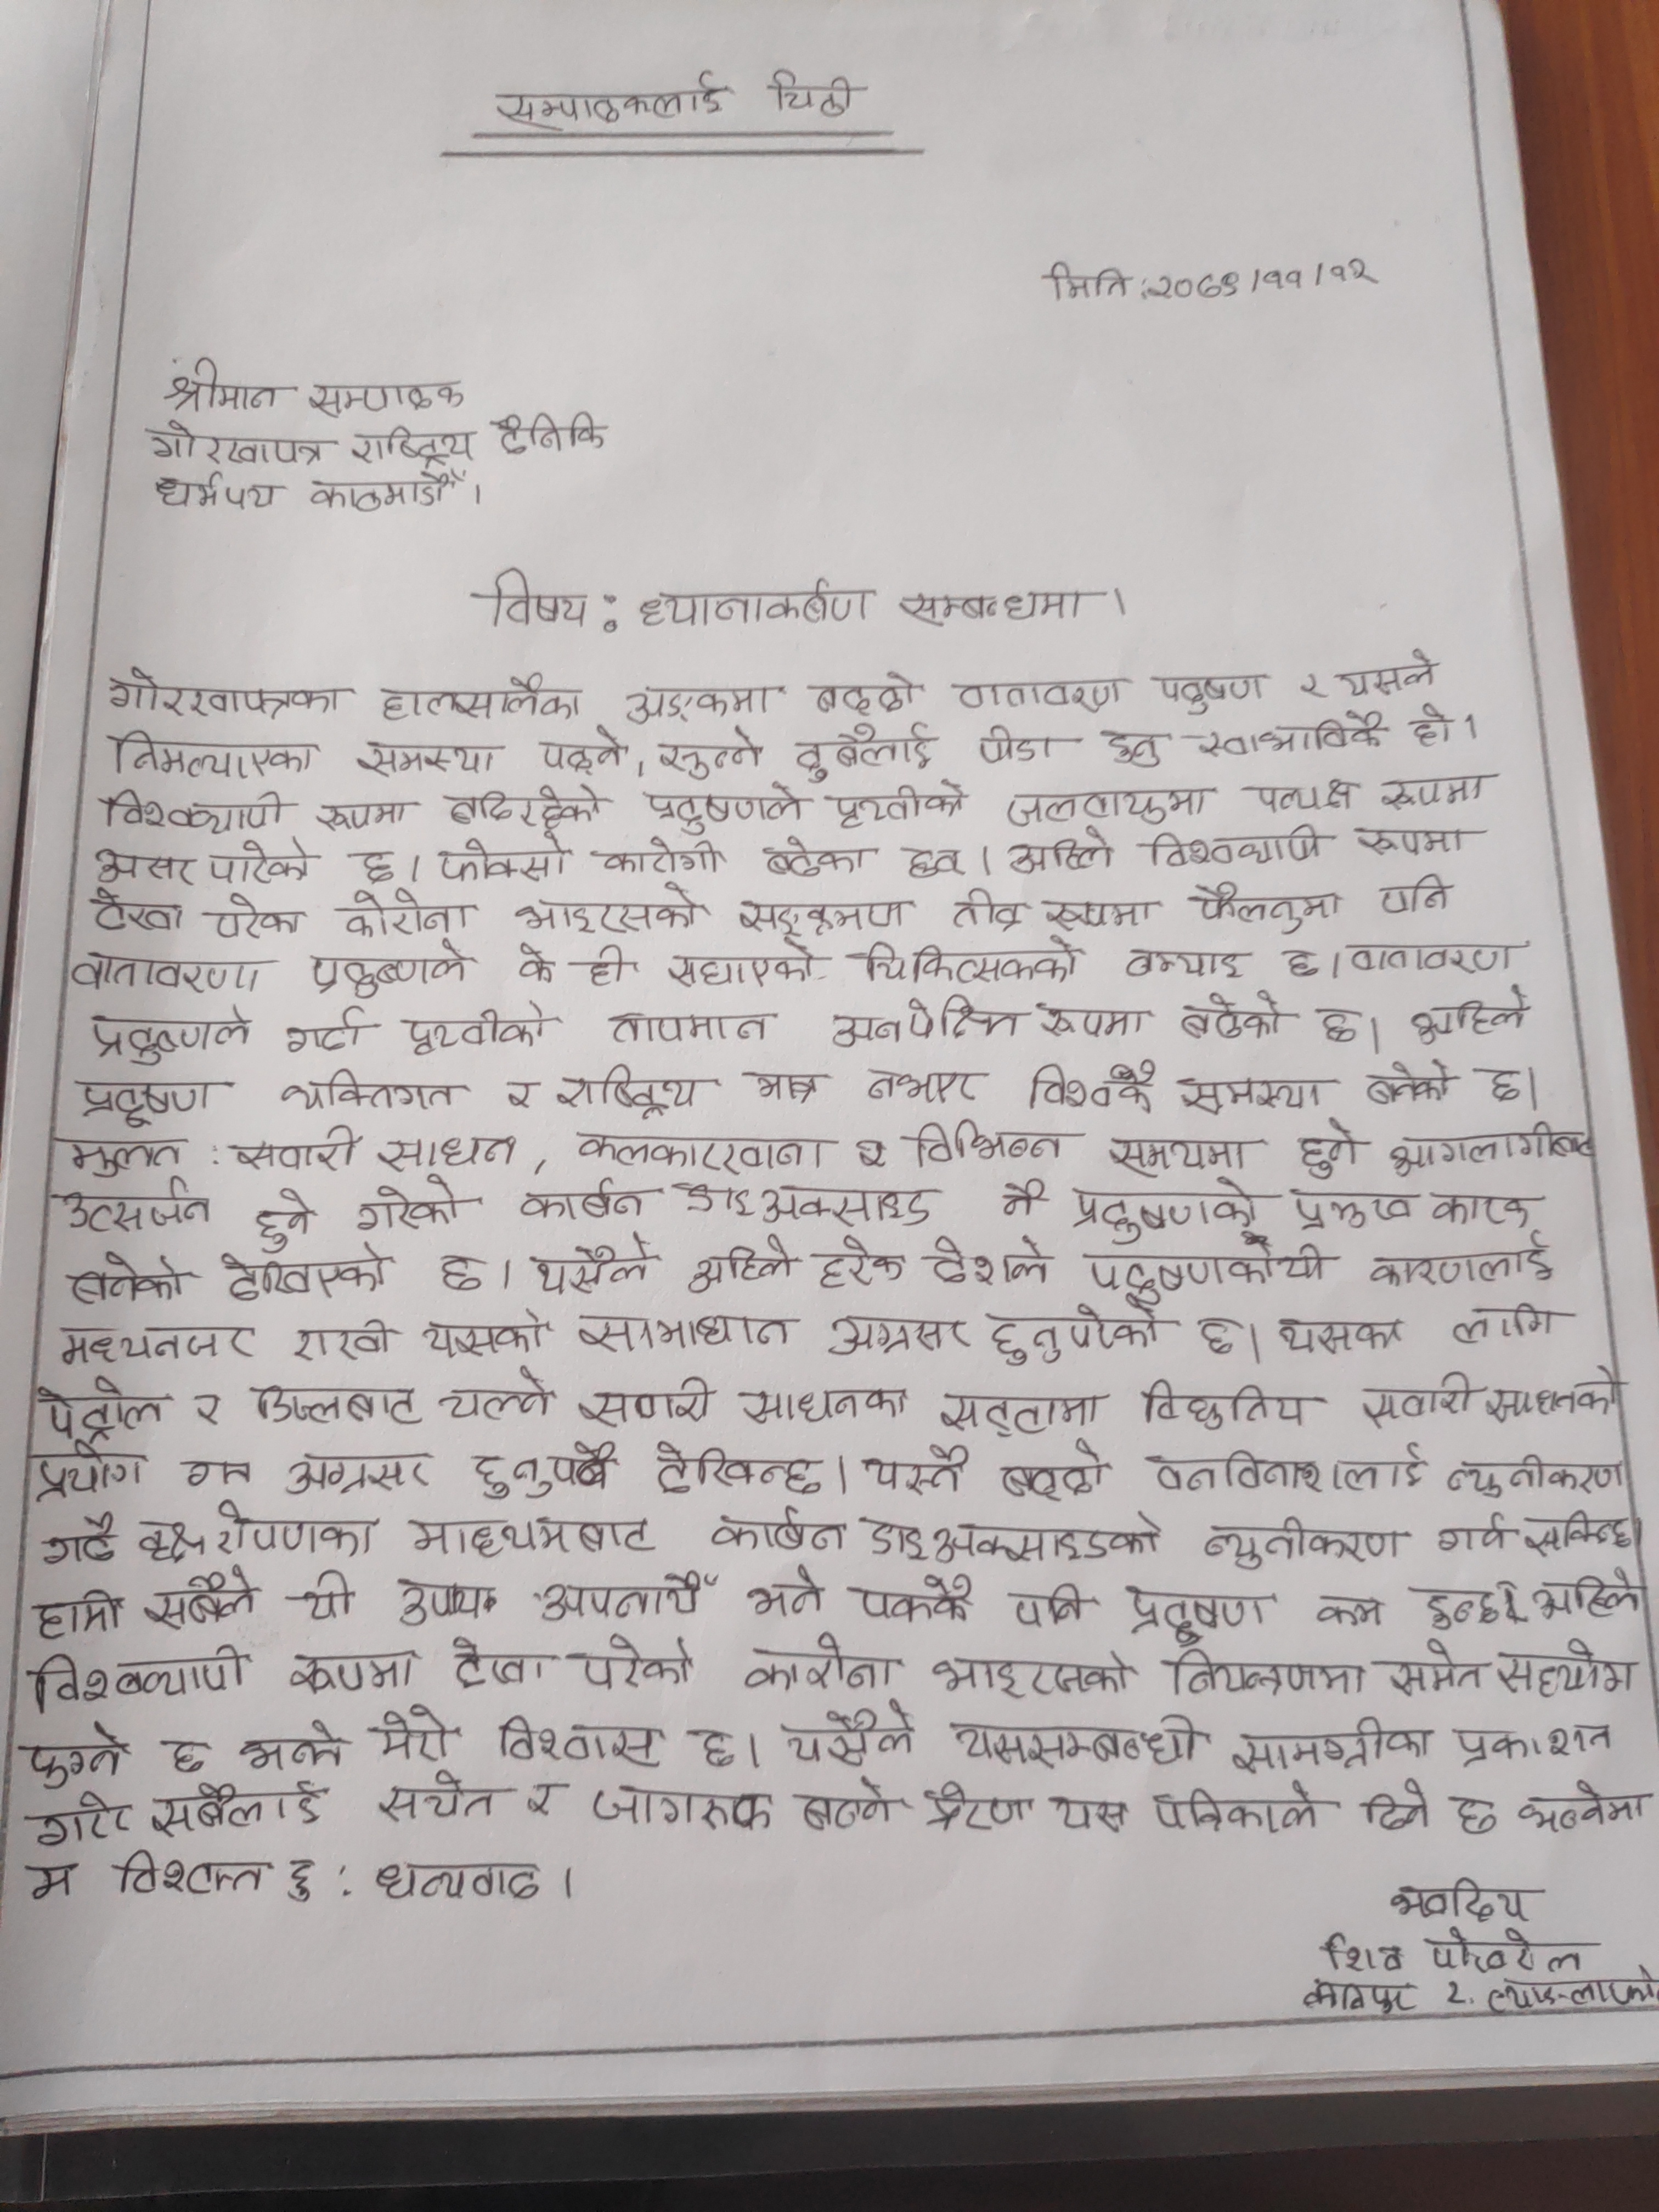text: (1148, 1433, 1427, 1501), (441, 1629, 702, 1698), (1080, 1238, 1328, 1306), (856, 1514, 1161, 1568), (950, 1710, 1204, 1770), (134, 1500, 383, 1559), (568, 1299, 798, 1362), (491, 71, 734, 131), (26, 1651, 260, 1712), (922, 1637, 1134, 1702), (1068, 1170, 1263, 1240), (1148, 254, 1391, 310), (676, 1183, 932, 1235), (979, 1301, 1175, 1369), (1384, 1122, 1603, 1181), (143, 1778, 338, 1844), (1230, 1710, 1436, 1773), (101, 665, 347, 718), (1192, 1510, 1408, 1569), (51, 1313, 256, 1374), (108, 725, 319, 784), (404, 1510, 659, 1559), (573, 1129, 836, 1176), (1115, 1576, 1288, 1646), (824, 993, 1025, 1052), (861, 932, 1086, 984), (1164, 1641, 1368, 1698), (638, 578, 877, 627), (61, 944, 274, 998), (105, 784, 293, 845), (592, 1771, 781, 1832), (645, 1439, 831, 1500), (1361, 1235, 1563, 1291), (744, 1635, 913, 1702), (1000, 775, 1222, 826), (1490, 1634, 1650, 1703), (1201, 709, 1387, 768), (488, 1709, 660, 1771), (26, 1371, 176, 1442), (368, 1855, 558, 1911), (464, 1430, 613, 1500), (1148, 1778, 1324, 1838), (1507, 1775, 1659, 1843), (378, 676, 589, 725), (216, 1251, 389, 1310), (934, 1381, 1112, 1439), (735, 1378, 918, 1433), (84, 1007, 254, 1066), (1483, 1360, 1628, 1430), (307, 941, 476, 1000), (525, 1228, 659, 1301), (1183, 871, 1338, 934), (781, 1703, 936, 1766), (990, 1426, 1114, 1505), (106, 1846, 268, 1905), (1129, 1381, 1319, 1432), (1023, 1055, 1164, 1123), (509, 890, 702, 939), (535, 1569, 709, 1623), (702, 1501, 852, 1564), (1446, 1449, 1631, 1500), (894, 587, 1098, 632), (547, 1066, 713, 1122), (408, 998, 551, 1062), (638, 784, 819, 834), (1141, 824, 1331, 871), (279, 1064, 469, 1111), (1483, 1968, 1659, 2019), (450, 779, 613, 833), (1448, 1717, 1612, 1771), (1344, 930, 1525, 979), (28, 1439, 157, 1507), (910, 1116, 1072, 1170), (256, 1379, 429, 1430), (1354, 1366, 1480, 1433), (619, 674, 775, 728), (54, 1184, 216, 1237), (279, 1446, 436, 1500), (143, 421, 329, 467), (132, 1566, 261, 1630), (1384, 1872, 1532, 1928), (1427, 1928, 1595, 1977), (21, 1721, 134, 1792), (160, 357, 286, 421), (350, 1172, 476, 1237), (59, 1249, 188, 1312), (819, 1306, 971, 1359), (847, 1566, 979, 1625), (791, 723, 931, 779), (920, 1235, 1054, 1292), (1176, 1066, 1328, 1116), (603, 1000, 772, 1045), (427, 1360, 552, 1421), (1406, 991, 1535, 1050), (432, 834, 573, 888), (662, 941, 824, 988), (826, 779, 976, 829), (572, 1379, 716, 1432), (77, 1080, 230, 1129), (350, 737, 509, 784), (282, 1642, 420, 1696), (1173, 984, 1293, 1045), (371, 1771, 498, 1829), (305, 371, 474, 413), (469, 571, 587, 631), (857, 1433, 976, 1493), (734, 897, 917, 935), (1033, 988, 1148, 1049), (683, 1238, 796, 1299), (502, 1177, 648, 1224), (228, 1125, 364, 1176), (948, 676, 1126, 714), (61, 1130, 193, 1181), (1349, 819, 1476, 871), (307, 467, 457, 510), (237, 1719, 352, 1775), (31, 1587, 131, 1651), (143, 470, 284, 516), (333, 890, 479, 934), (861, 1059, 983, 1111), (1110, 1134, 1256, 1177), (1286, 1186, 1420, 1233), (1389, 1637, 1486, 1702), (1448, 1292, 1560, 1348), (488, 408, 606, 460), (371, 1129, 519, 1170), (817, 1231, 913, 1296), (427, 1312, 558, 1359), (657, 730, 770, 784), (920, 1782, 1033, 1836), (755, 829, 871, 881), (347, 421, 481, 467), (798, 1773, 897, 1834), (1358, 1055, 1466, 1111), (1527, 1503, 1635, 1559), (1154, 667, 1269, 719), (1530, 1568, 1645, 1620), (1248, 765, 1358, 819), (202, 841, 317, 892), (1121, 939, 1253, 982), (1330, 650, 1443, 700), (1375, 765, 1495, 812), (1007, 831, 1121, 880), (1269, 1317, 1406, 1357), (1042, 888, 1159, 935), (765, 66, 864, 120), (37, 1517, 132, 1573), (1431, 1186, 1544, 1233), (748, 1564, 835, 1625), (1300, 1977, 1432, 2017), (289, 1317, 396, 1366), (805, 671, 918, 716), (207, 895, 308, 946), (528, 730, 633, 779), (1006, 1580, 1100, 1634), (1420, 1575, 1506, 1634), (403, 1580, 502, 1630), (361, 1709, 457, 1761), (92, 846, 202, 892), (601, 834, 723, 874), (242, 1188, 319, 1251), (77, 895, 186, 939), (37, 1796, 127, 1848), (1422, 1501, 1509, 1555), (310, 792, 416, 836), (1317, 1933, 1415, 1980), (1046, 256, 1133, 308), (1359, 1775, 1432, 1836), (284, 1007, 378, 1054), (744, 1059, 826, 1111), (969, 723, 1060, 770), (1049, 1787, 1131, 1838), (301, 1559, 361, 1629), (1312, 1587, 1398, 1634), (946, 885, 1030, 932), (171, 1449, 254, 1494), (422, 1247, 491, 1301), (1377, 871, 1459, 916), (162, 1723, 228, 1778), (1443, 1784, 1504, 1843), (1403, 702, 1469, 752), (1297, 1127, 1363, 1177), (1100, 725, 1169, 772), (1187, 1310, 1248, 1360), (579, 939, 636, 991), (993, 1174, 1053, 1224), (505, 935, 559, 989), (21, 1850, 73, 1905), (688, 1714, 737, 1773), (897, 843, 965, 885), (1310, 1000, 1361, 1052), (277, 1855, 328, 1905), (352, 841, 401, 892), (1476, 1064, 1532, 1108), (1274, 939, 1324, 984), (188, 1385, 235, 1426), (523, 1778, 563, 1827), (497, 1078, 545, 1113), (852, 1130, 892, 1170), (1300, 667, 1324, 698)
